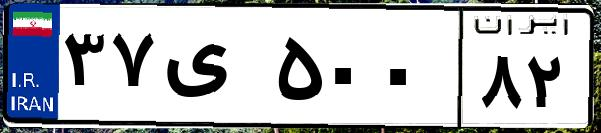0: (385, 28, 445, 110), (330, 28, 385, 110)
2: (525, 38, 570, 115)
3: (57, 26, 110, 100)
5: (270, 28, 330, 110)
7: (110, 28, 158, 98)
8: (475, 38, 525, 113)
ی: (158, 20, 270, 120)
